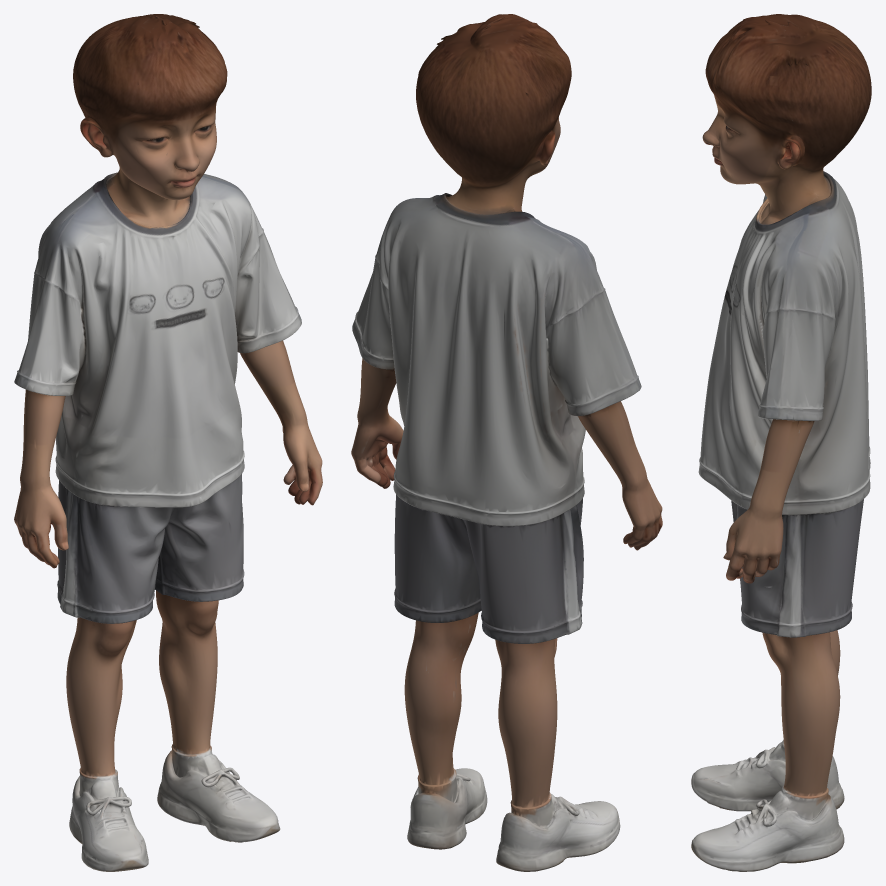
Rendered from char2_v1.glb.
3 views of the same model, side by side, from view 1: azimuth 30°, elevation 25°; view 2: azimuth 150°, elevation 25°; view 3: azimuth 270°, elevation 25° (orthographic).
Visible parts, largest first — view 1: node_0; view 2: node_0; view 3: node_0.
Part boxes in pixels (left/top/right/bottom): node_0: left=14, top=14, right=322, bottom=871; node_0: left=351, top=14, right=662, bottom=871; node_0: left=691, top=14, right=871, bottom=871.
Size of the model in its own units: 0.4456 by 1.17 by 0.2358.
Materials: 1 (1 with a texture image).
